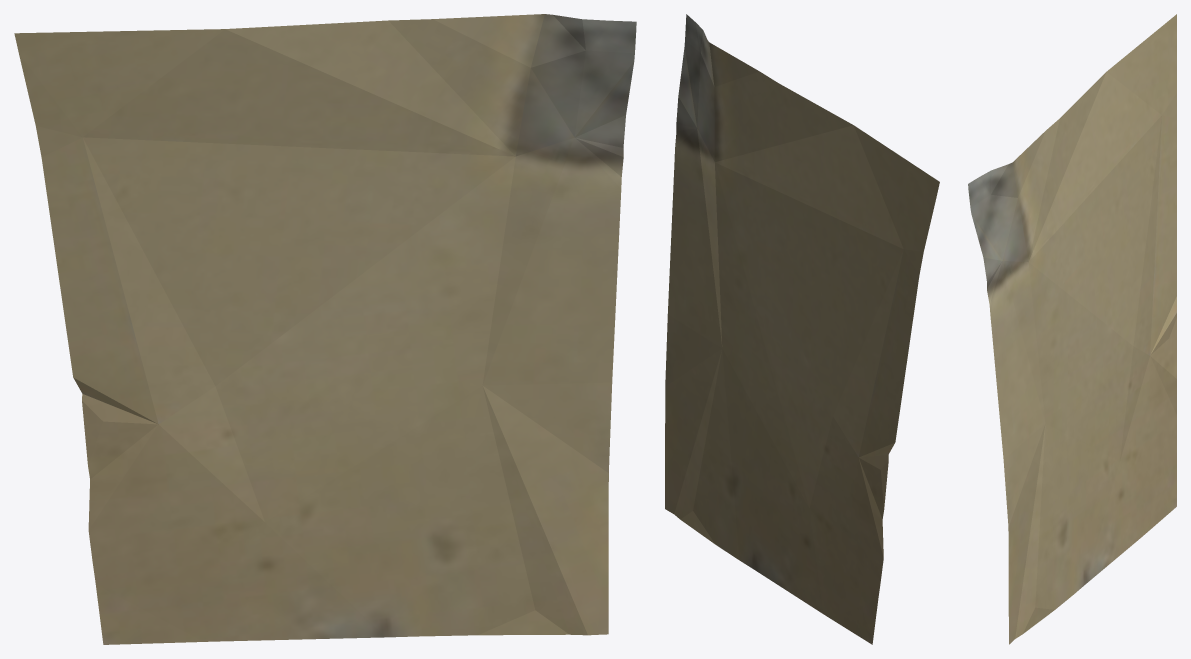
3 views of the same model, side by side, from view 1: azimuth 30°, elevation 25°; view 2: azimuth 150°, elevation 25°; view 3: azimuth 270°, elevation 25° (orthographic). The views are drawn at different scales.
Size of the model in its own units: 0.6623 by 0.8374 by 0.344.
Materials: 2 (2 with a texture image).
